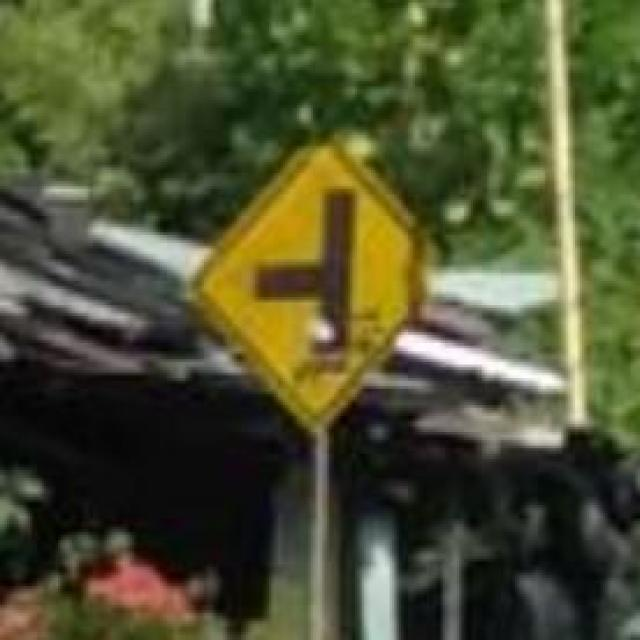traffic sign: (174, 135, 434, 430)
